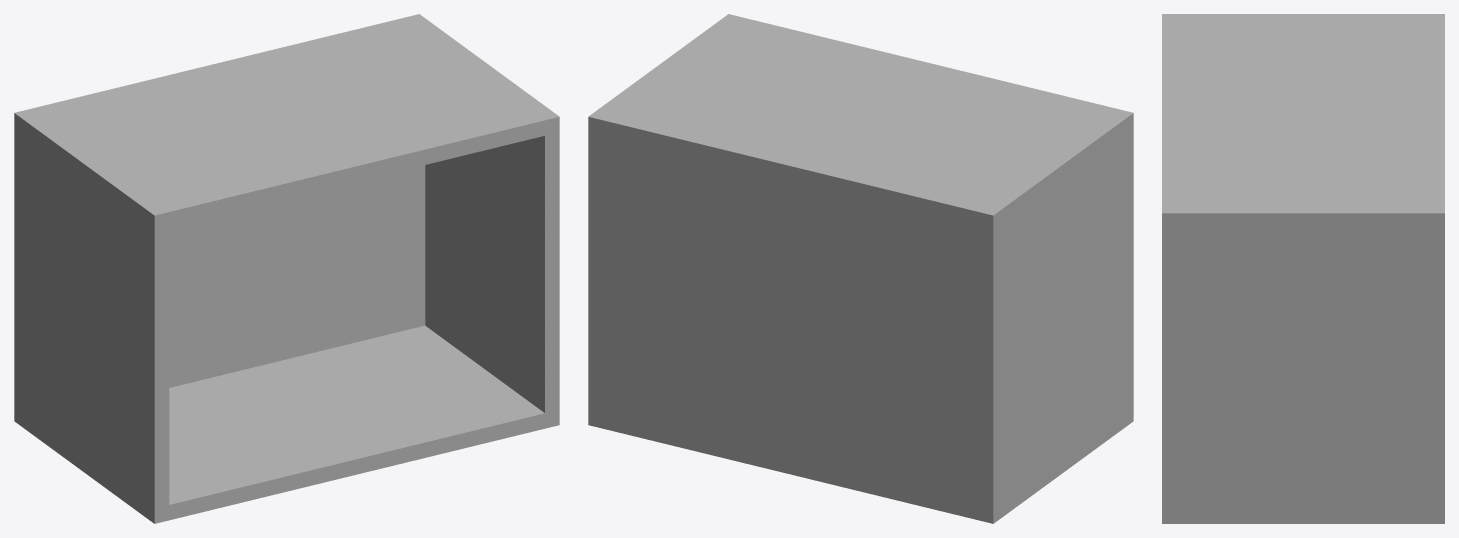
The picture shows the model from 3 angles, left to right: view 1: azimuth 30°, elevation 25°; view 2: azimuth 150°, elevation 25°; view 3: azimuth 270°, elevation 25°; orthographic projection.
Visible parts, largest first — view 1: Box015; view 2: Box015; view 3: Box015.
Boxes of the visible parts, x1,y1,x2,y2 form: Box015: (14,14,559,523); Box015: (588,14,1133,523); Box015: (1162,14,1444,523).
Size of the model in its own units: 0.55 by 0.4 by 0.33.
1 material, 1 textured.
